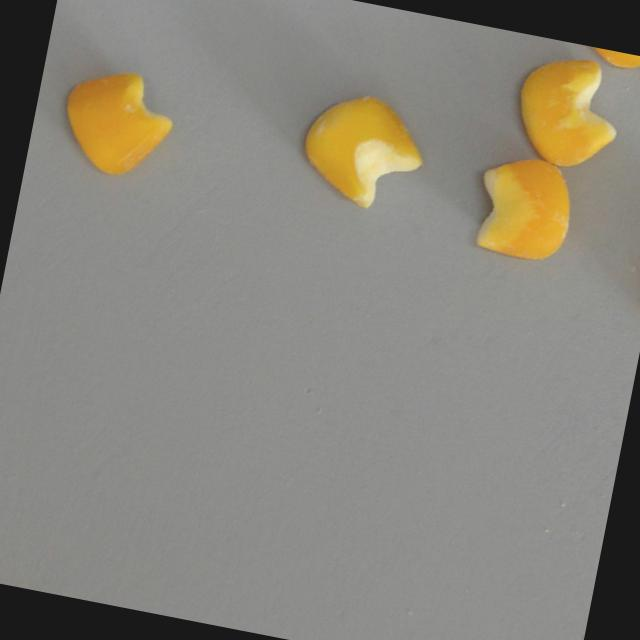no_canjicado: (54, 59, 183, 186), (507, 47, 631, 175), (469, 149, 581, 267), (573, 44, 640, 70)
pelicula: (293, 83, 434, 218)
